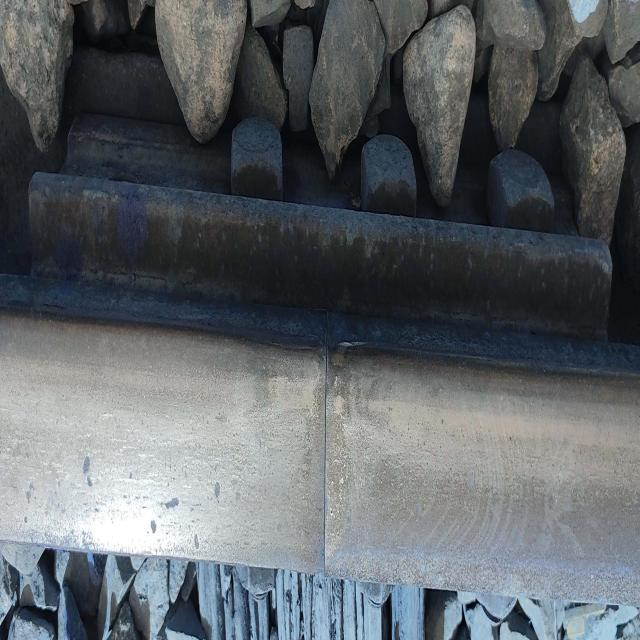head_checks_low: (163, 488, 180, 515), (82, 458, 93, 494), (149, 511, 158, 538), (192, 532, 202, 556), (213, 480, 222, 504)
